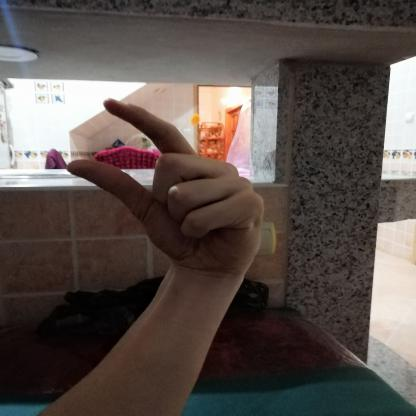DELL: (49, 82, 280, 286)
